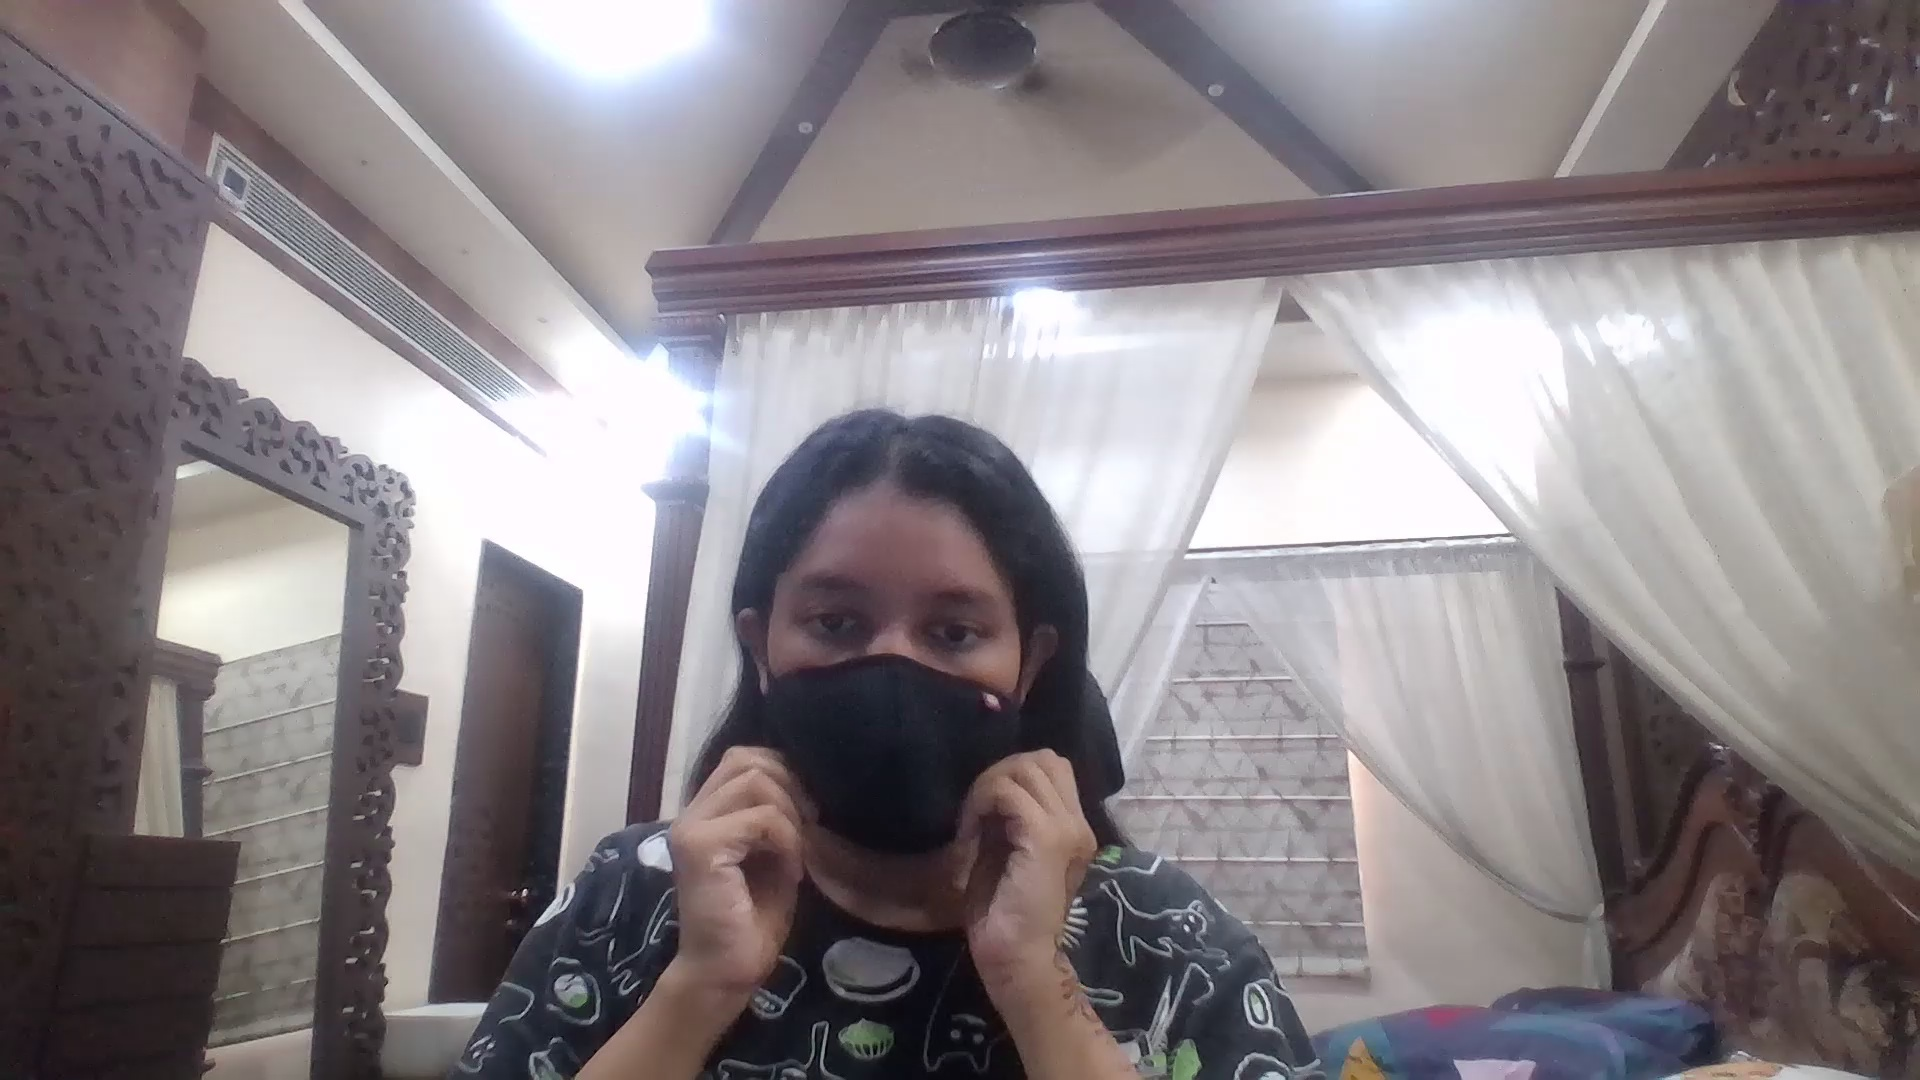Mask: (771, 669, 1007, 859)
